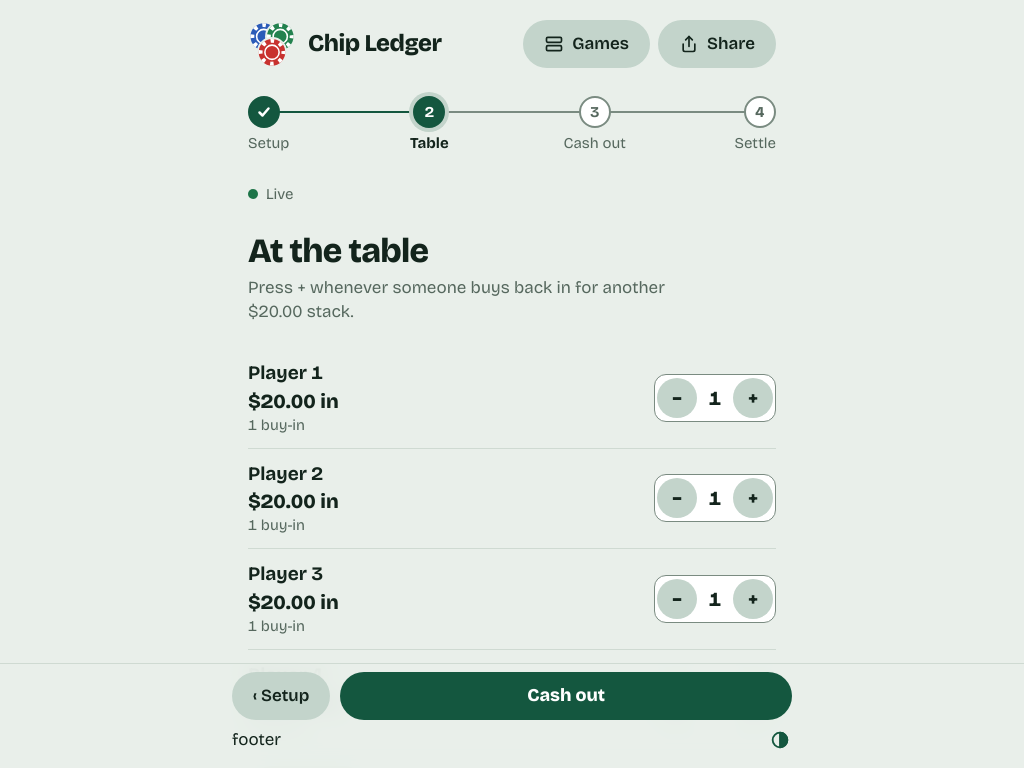
it: SharedGameApp: editing (REQ-0003-07, -10, -14) › REQ-0003-14: says when a change is waiting for the connection
Click the button named "Add a buy-in for Player 1": click(753, 398) 733,378 -> 773,418
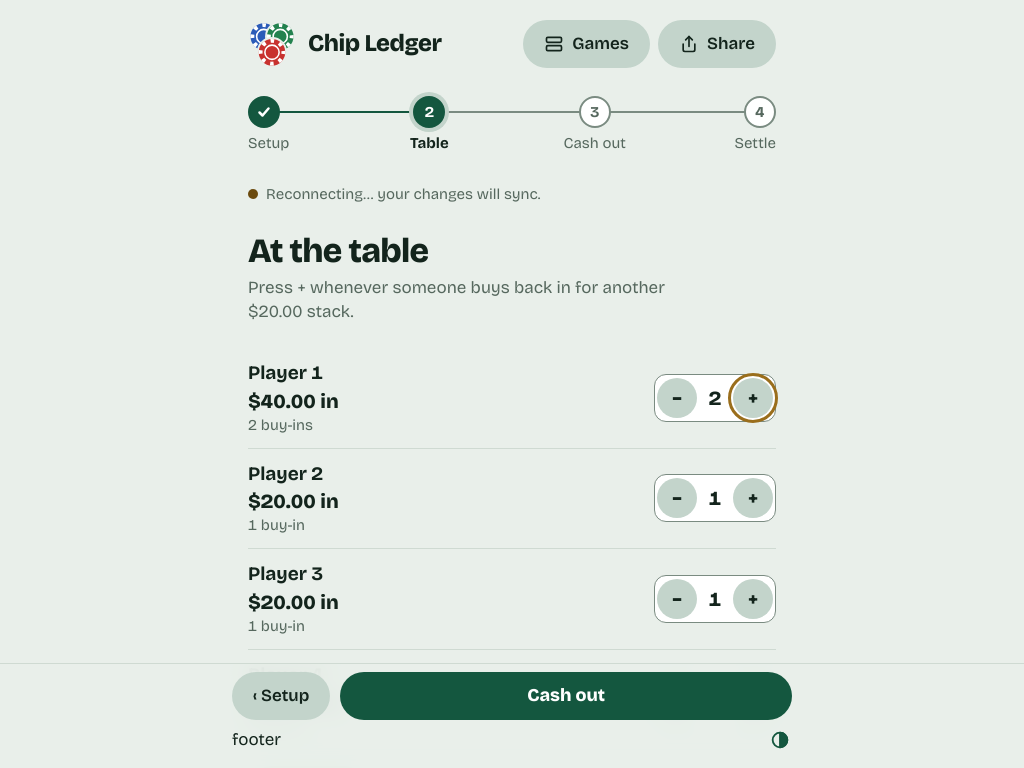
Result: the text "Reconnecting… your changes will sync." is shown at 248,185 -> 540,203
Result: the element named "Buy-ins for Player 1" shows "2" at 709,386 -> 721,410
